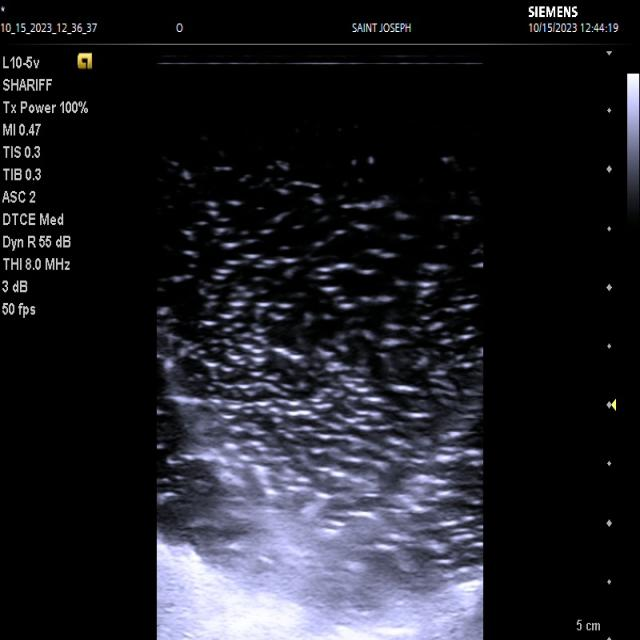tissue: (157, 543, 483, 640)
